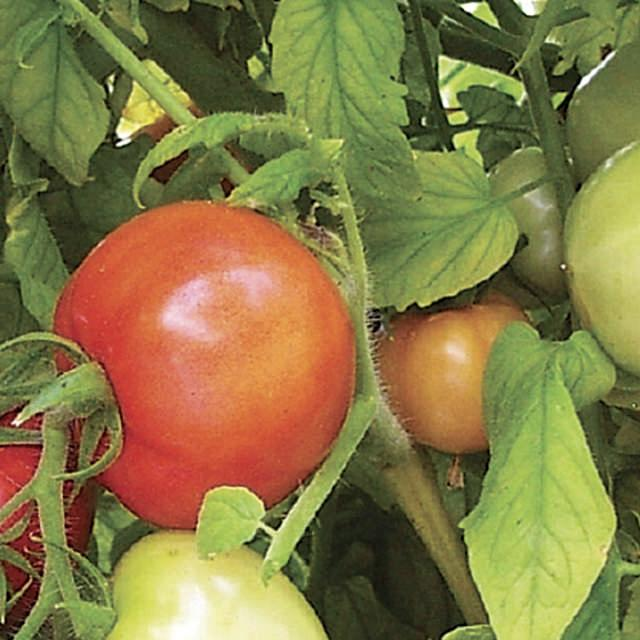tomato: (56, 201, 354, 529)
